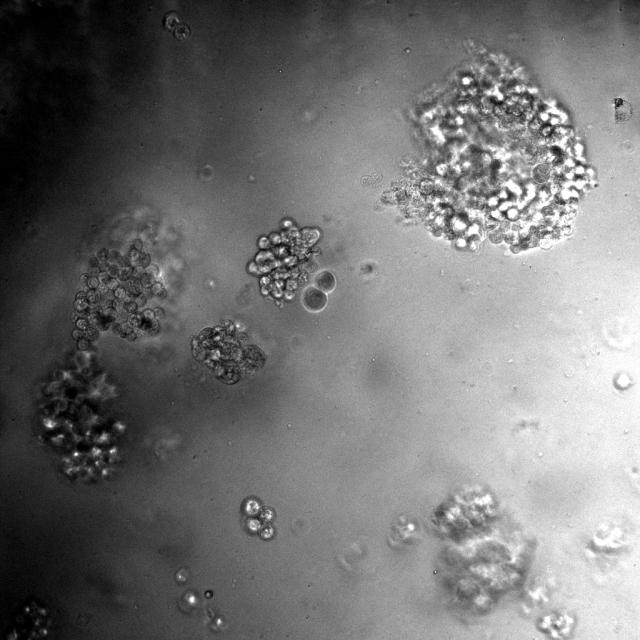organoid: (382, 47, 596, 252), (431, 485, 534, 617), (70, 238, 169, 351), (39, 351, 125, 481), (247, 218, 321, 308), (191, 320, 266, 384), (4, 599, 51, 639), (241, 495, 276, 540), (301, 269, 336, 312), (588, 522, 629, 557), (522, 577, 556, 614), (537, 610, 576, 639), (162, 10, 191, 41), (612, 96, 632, 123), (361, 172, 382, 186), (359, 261, 374, 274), (203, 589, 213, 599)
